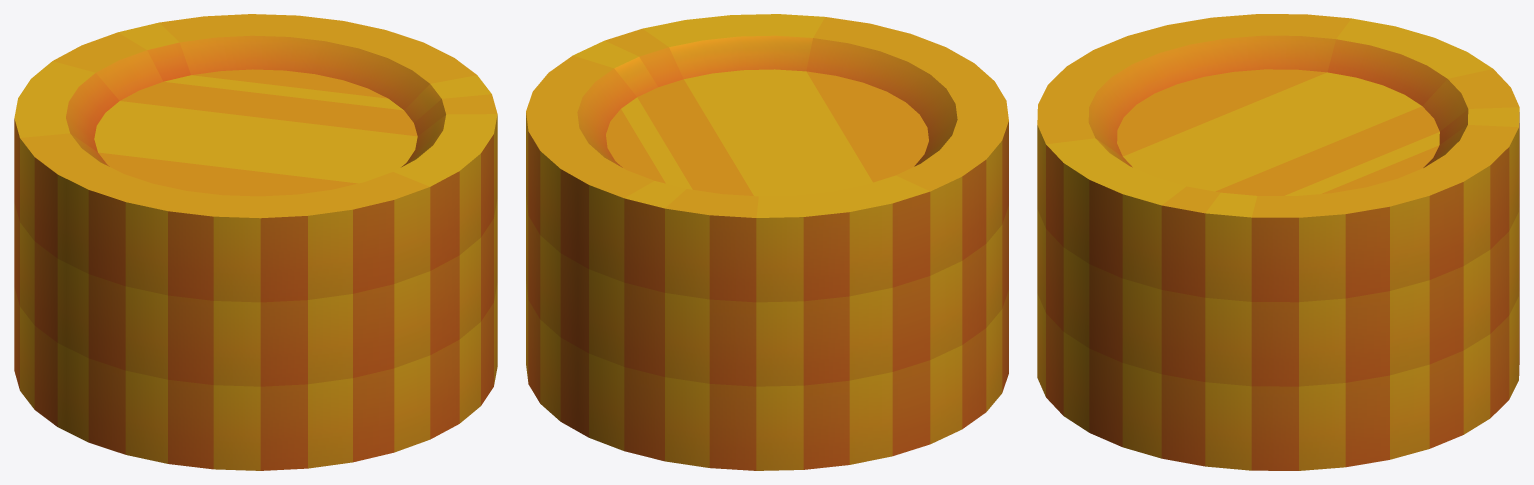
The model's file is coin_b.fbx.
3 renders of one model, left to right at view 1: azimuth 30°, elevation 25°; view 2: azimuth 150°, elevation 25°; view 3: azimuth 270°, elevation 25°, orthographic.
Parts seen in each view (by area): view 1: coin_stack; view 2: coin_stack; view 3: coin_stack.
Part boxes in pixels (x1,y1,x2,y2): coin_stack: (14,14,497,470); coin_stack: (526,14,1008,470); coin_stack: (1037,14,1519,470).
Bounding box in the file's own units: 9.27 × 5.37 × 9.27.
